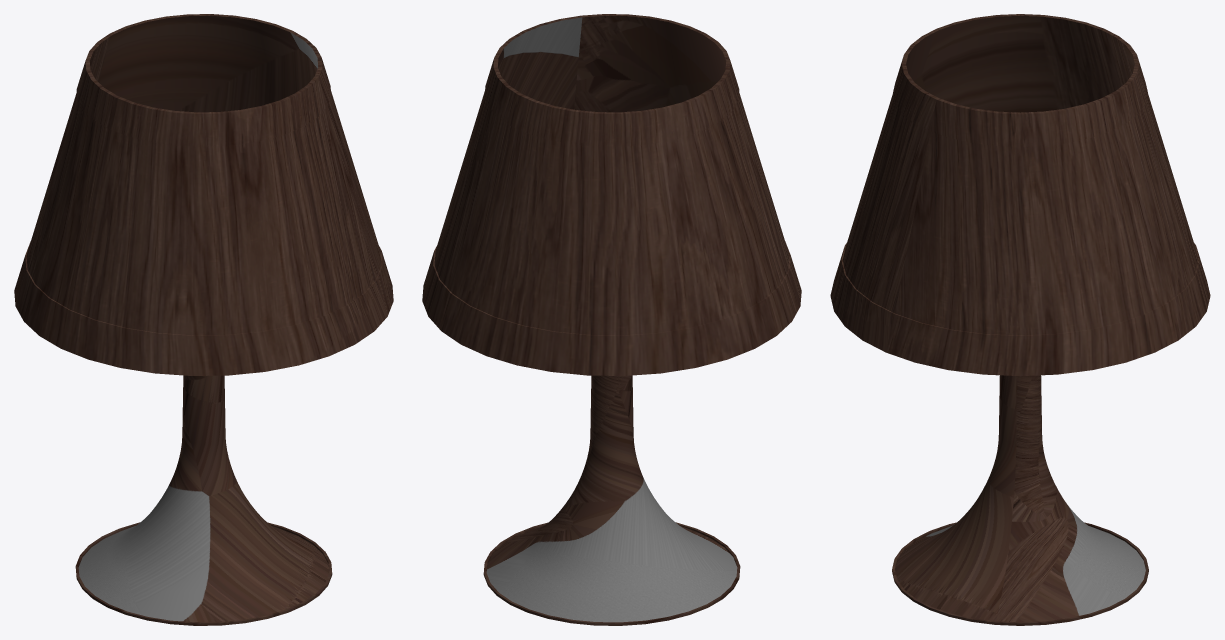
The model's file is DeskLamp.obj.
3 renders of one model, left to right at view 1: azimuth 30°, elevation 25°; view 2: azimuth 150°, elevation 25°; view 3: azimuth 270°, elevation 25°, orthographic.
Visible parts, largest first — view 1: Cylinder; view 2: Cylinder; view 3: Cylinder.
Boxes of the visible parts, <box> form: Cylinder: <box>14,14,393,625</box>; Cylinder: <box>422,14,801,625</box>; Cylinder: <box>830,14,1210,625</box>.
Size of the model in its own units: 1.2 by 1.77 by 1.2.
